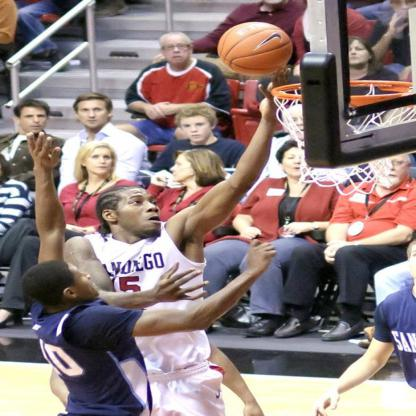Ball: (223, 23, 288, 74)
